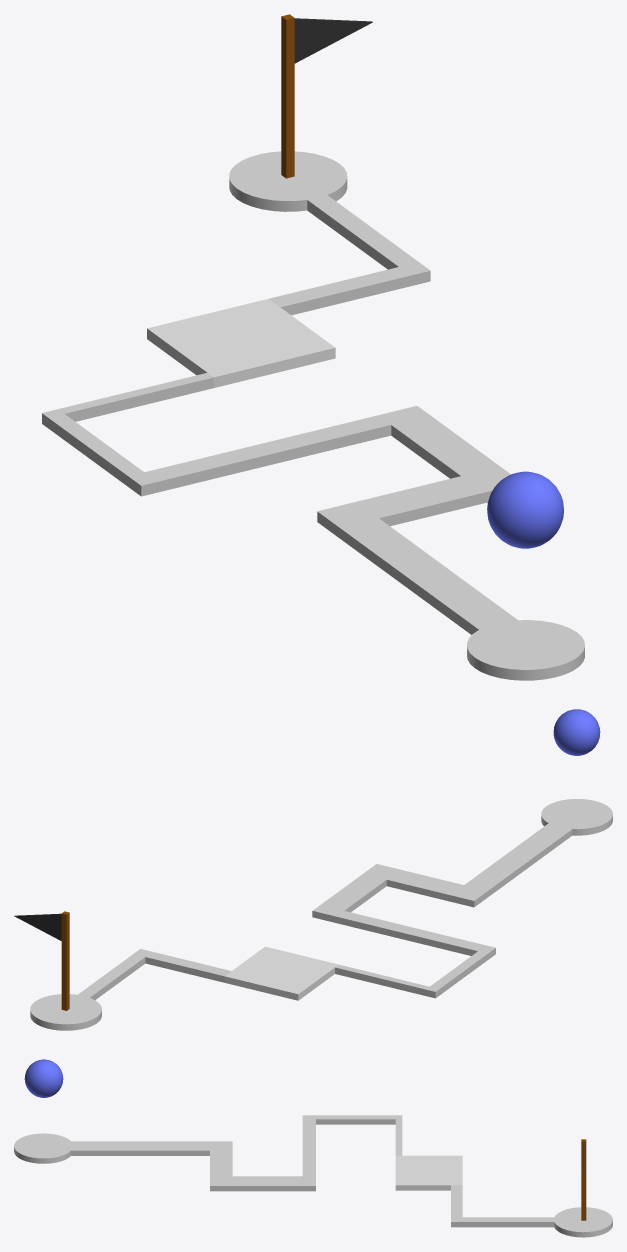
File: level1-1.glb
3 views of the same model, one above another, from view 1: azimuth 30°, elevation 25°; view 2: azimuth 150°, elevation 25°; view 3: azimuth 270°, elevation 25° (orthographic). The views are drawn at different scales.
Visible parts, largest first — view 1: Cube.006, Cube, Cube.003, Start, Finish, Player, Cube.001, Flag, Cube.002, Cube.007, Cube.008, Cube.005 (+1 smaller); view 2: Cube.006, Cube, Cube.003, Finish, Start, Player, Cube.001, Cube.002, Flag, Cube.007, Cube.008, Cube.005 (+1 smaller); view 3: Cube.006, Cube, Start, Finish, Cube.002, Player, Cube.008, Cube.001, Cube.003, Cube.004, Cube.007, Flag (+1 smaller).
Boxes of the visible parts, box(x1,y1,x2,y2) form: Cube.006: box(147, 299, 335, 387); Cube: box(317, 501, 517, 634); Cube.003: box(128, 415, 391, 496); Start: box(467, 620, 584, 680); Finish: box(229, 151, 347, 211); Player: box(487, 471, 563, 548); Cube.001: box(357, 466, 510, 526); Flag: box(281, 14, 372, 178); Cube.002: box(378, 406, 499, 478); Cube.007: box(269, 262, 430, 315); Cube.008: box(307, 195, 418, 269); Cube.005: box(58, 372, 213, 421); Cube.006: box(224, 946, 338, 1000); Cube: box(450, 823, 572, 907); Cube.003: box(336, 911, 495, 959); Finish: box(30, 994, 101, 1030); Start: box(541, 799, 612, 835); Player: box(553, 709, 600, 755); Cube.001: box(363, 864, 463, 901); Cube.002: box(312, 874, 386, 922); Flag: box(14, 911, 69, 1010); Cube.007: box(134, 949, 231, 982); Cube.008: box(78, 954, 145, 999); Cube.005: box(335, 964, 429, 995); Cube.006: box(395, 1155, 462, 1190); Cube: box(71, 1141, 232, 1155); Start: box(14, 1133, 72, 1163); Finish: box(554, 1207, 612, 1237); Cube.002: box(232, 1176, 315, 1191); Player: box(24, 1059, 63, 1097); Cube.008: box(462, 1217, 554, 1227); Cube.001: box(210, 1150, 232, 1191); Cube.003: box(302, 1115, 315, 1176); Cube.004: box(316, 1115, 402, 1124); Cube.007: box(451, 1185, 462, 1227); Flag: box(581, 1139, 586, 1220).
Size of the model in its own units: 15.33 by 5.15 by 31.05.
